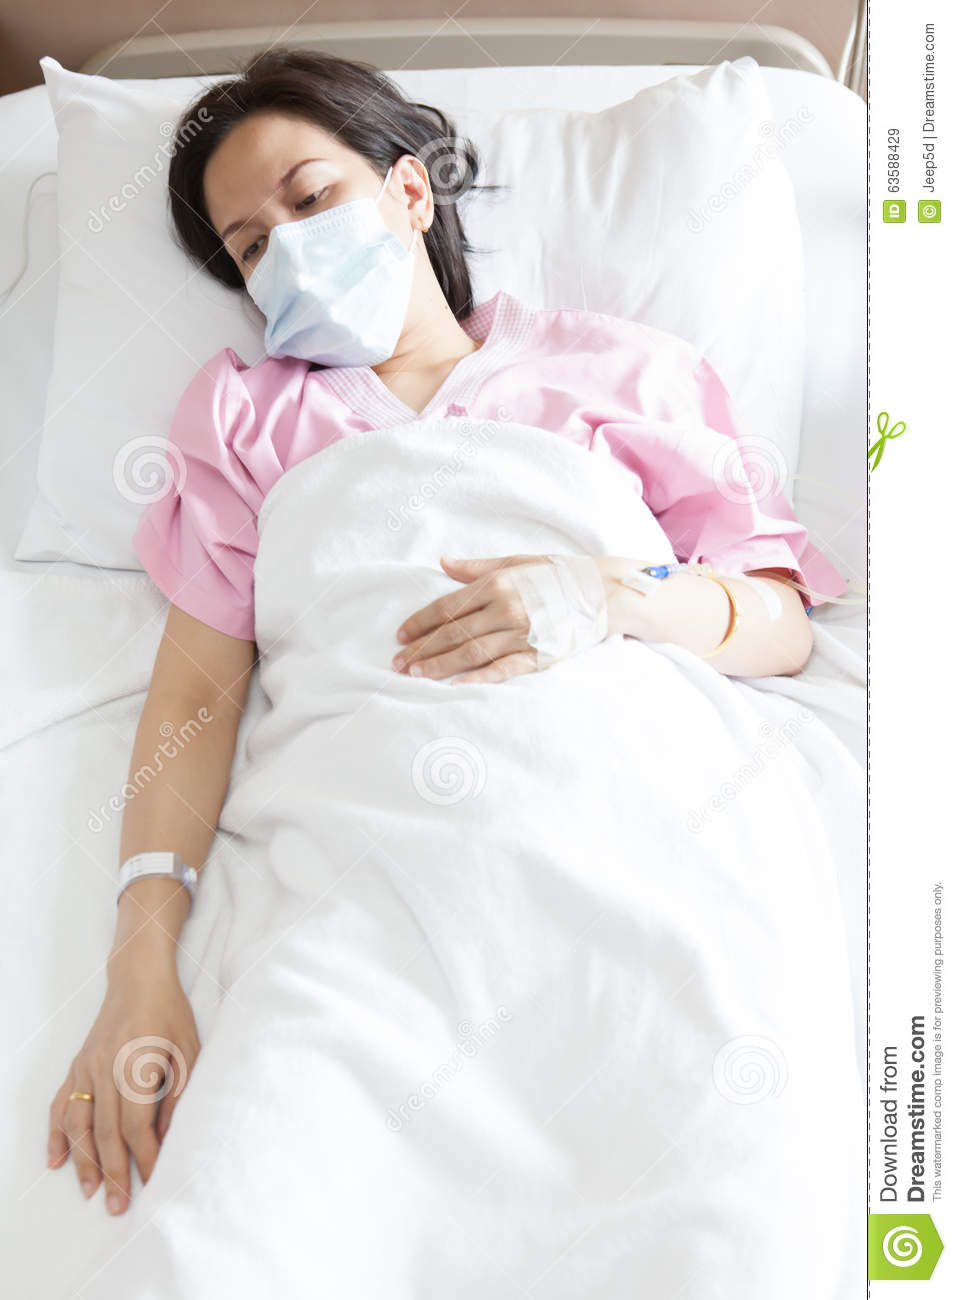mask: (243, 210, 416, 377)
